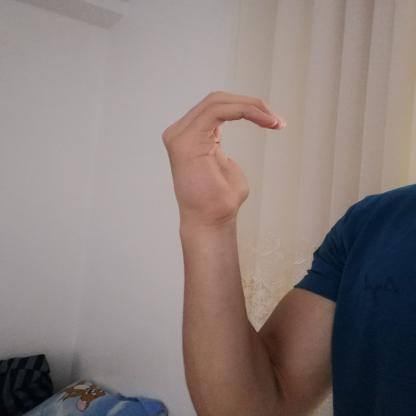HAA: (147, 80, 305, 233)
